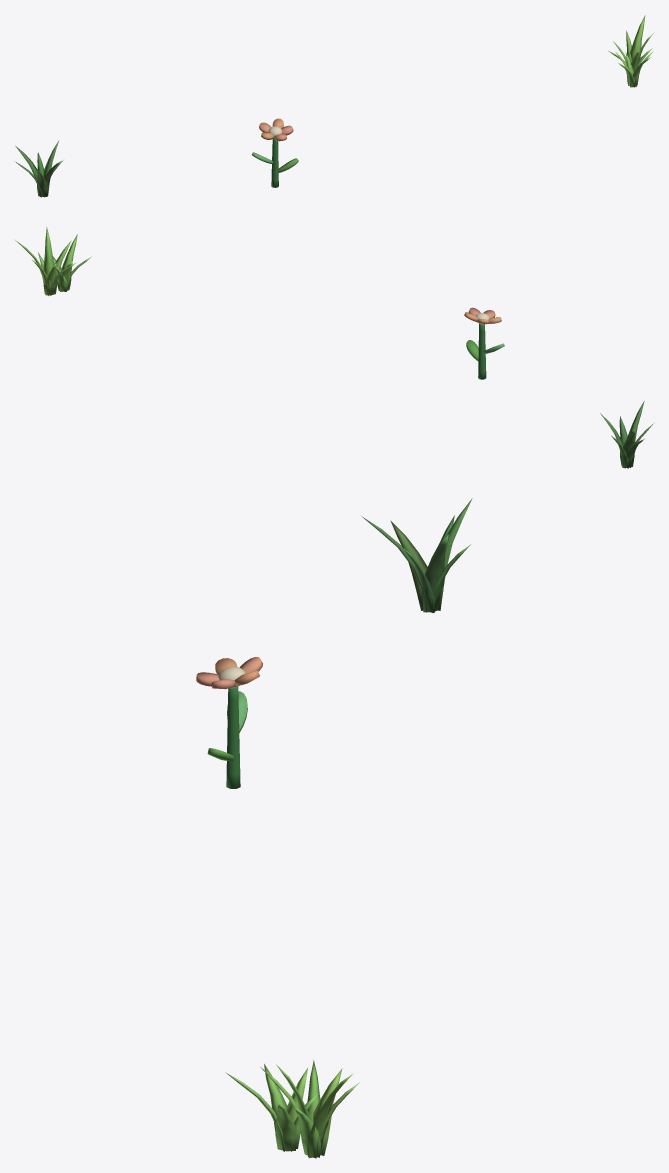
The model's file is W4_FloraRing_11_12.fbx.
The picture shows the model from 3 angles, top to bottom: view 1: azimuth 30°, elevation 25°; view 2: azimuth 150°, elevation 25°; view 3: azimuth 270°, elevation 25°; orthographic projection. The views are drawn at different scales.
Parts seen in each view (by area): view 1: W4_FloraRing_11_12; view 2: W4_FloraRing_11_12; view 3: W4_FloraRing_11_12.
Boxes of the visible parts, bbox=[...] form: W4_FloraRing_11_12: bbox=[14, 15, 654, 197]; W4_FloraRing_11_12: bbox=[14, 227, 654, 468]; W4_FloraRing_11_12: bbox=[196, 498, 472, 1158].
Bounding box in the file's own units: 1.57 × 0.1542 × 0.3096.
